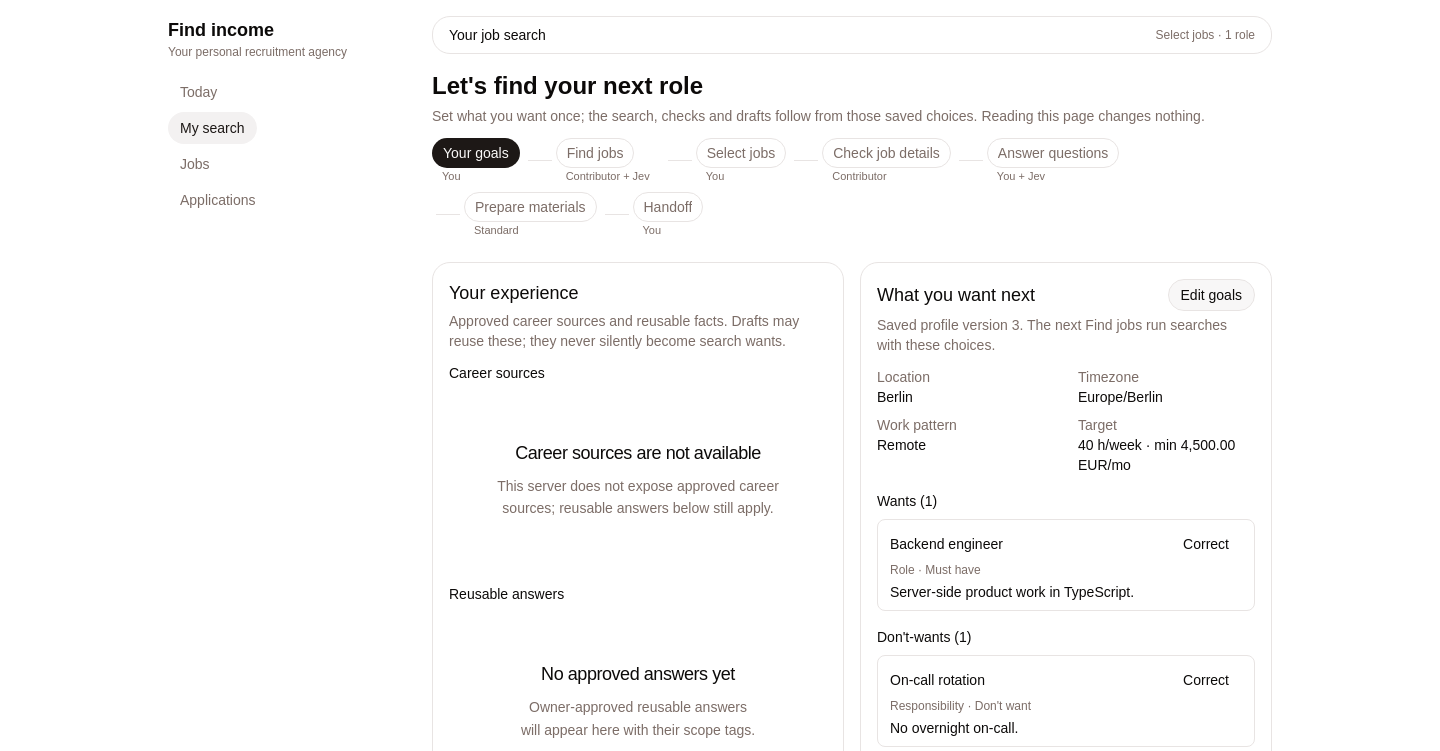
Test: goals form and experience (B2) › rejects an over-precise salary without saving
The width and height of the screenshot is (1440, 751).
Click the button "Edit goals" at [1211, 294], box [1168,278,1255,310]
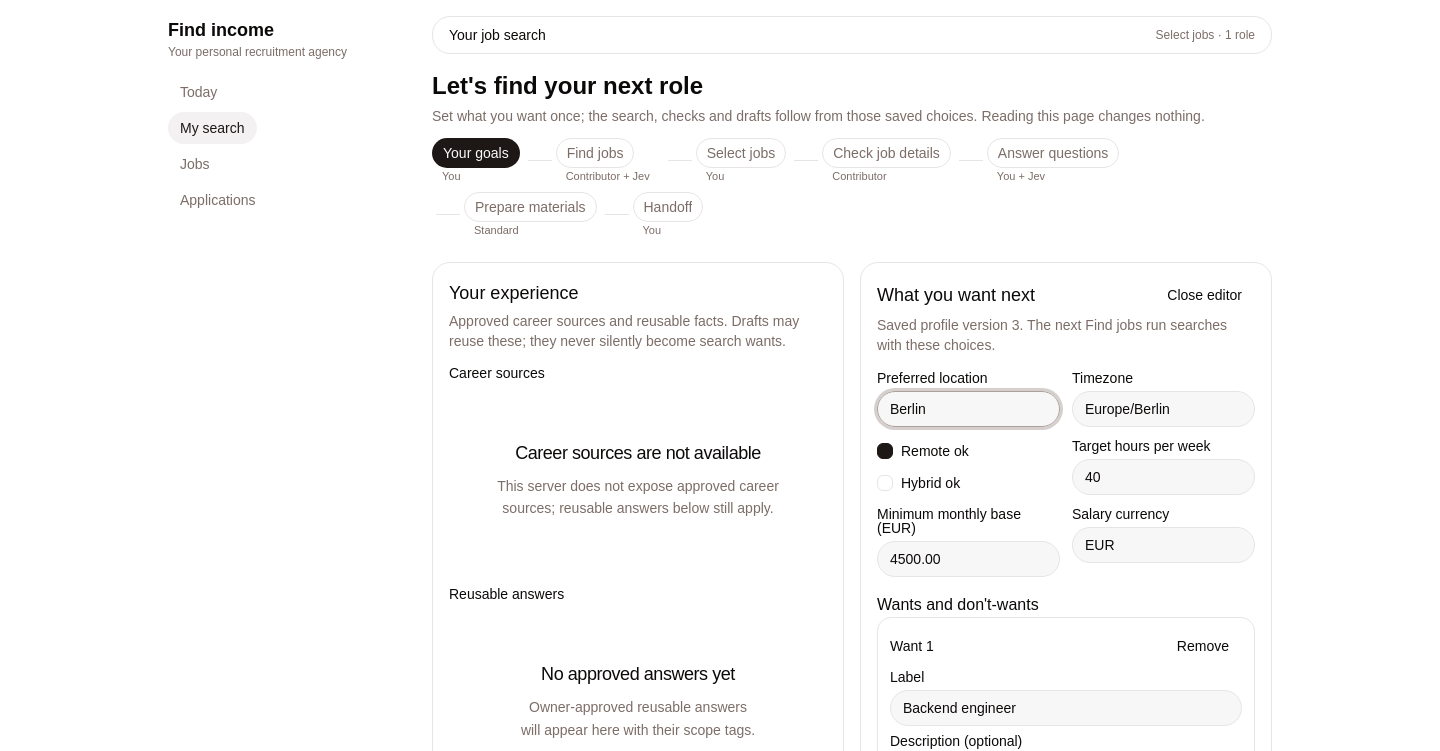
Type "45.505" into the field labelled "Minimum monthly base (EUR)" at [968, 558], box [877,540,1060,576]
(page scrolled)
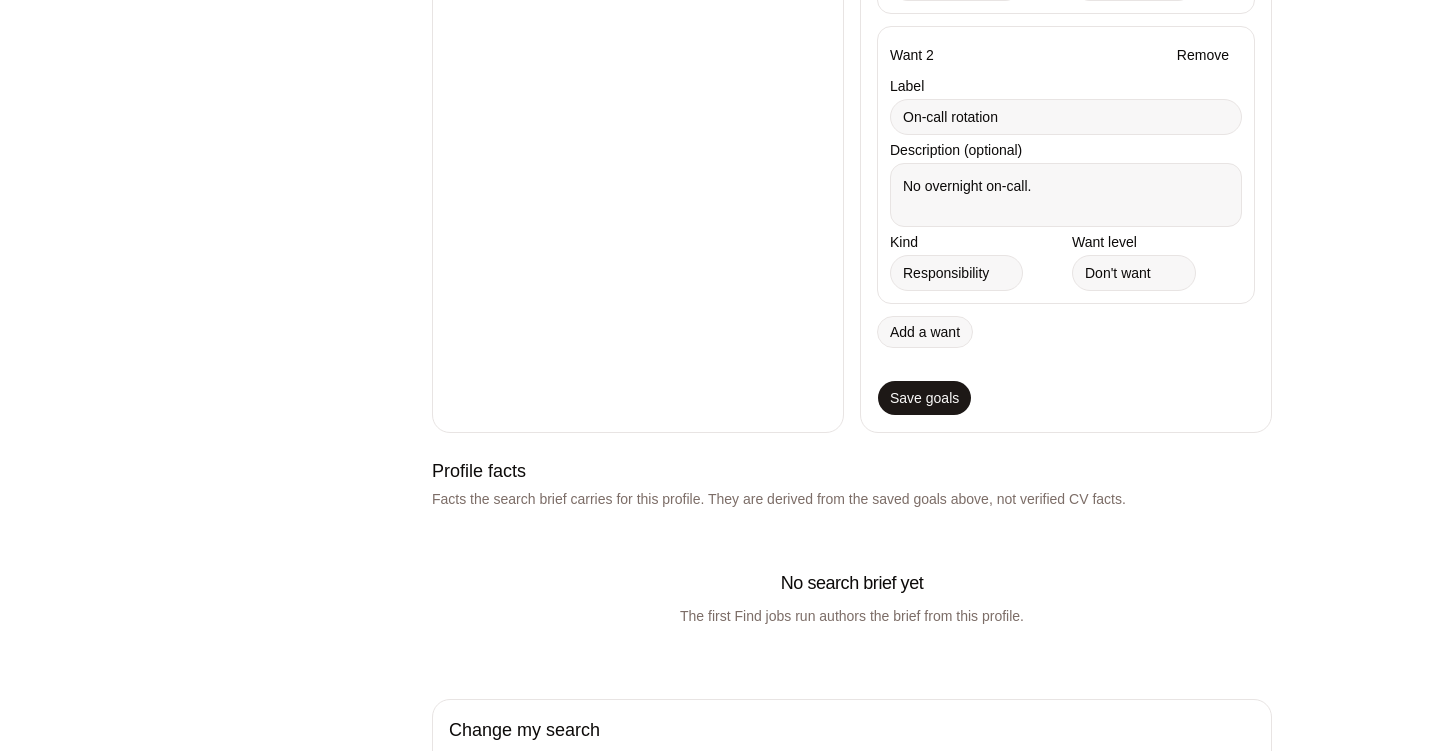
Click the button "Save goals" at [925, 398], box [877,380,972,416]
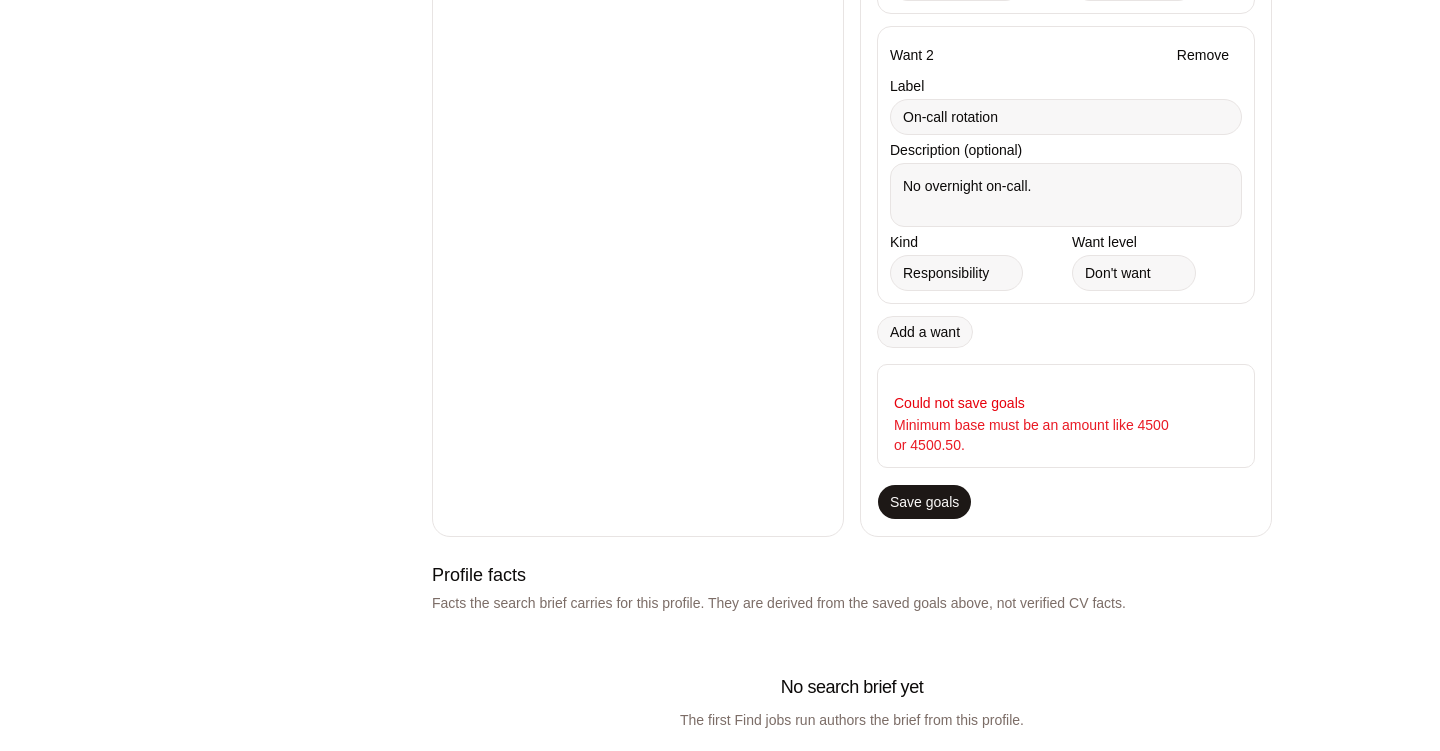
Expected: the text "Minimum base must be an amount like 4500 or 4500.50." is shown, [894,416,1169,452]
